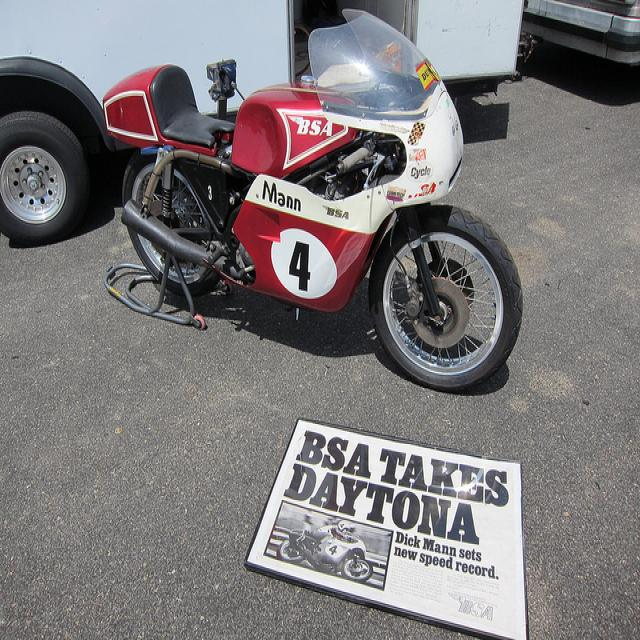motor: (101, 7, 525, 392)
